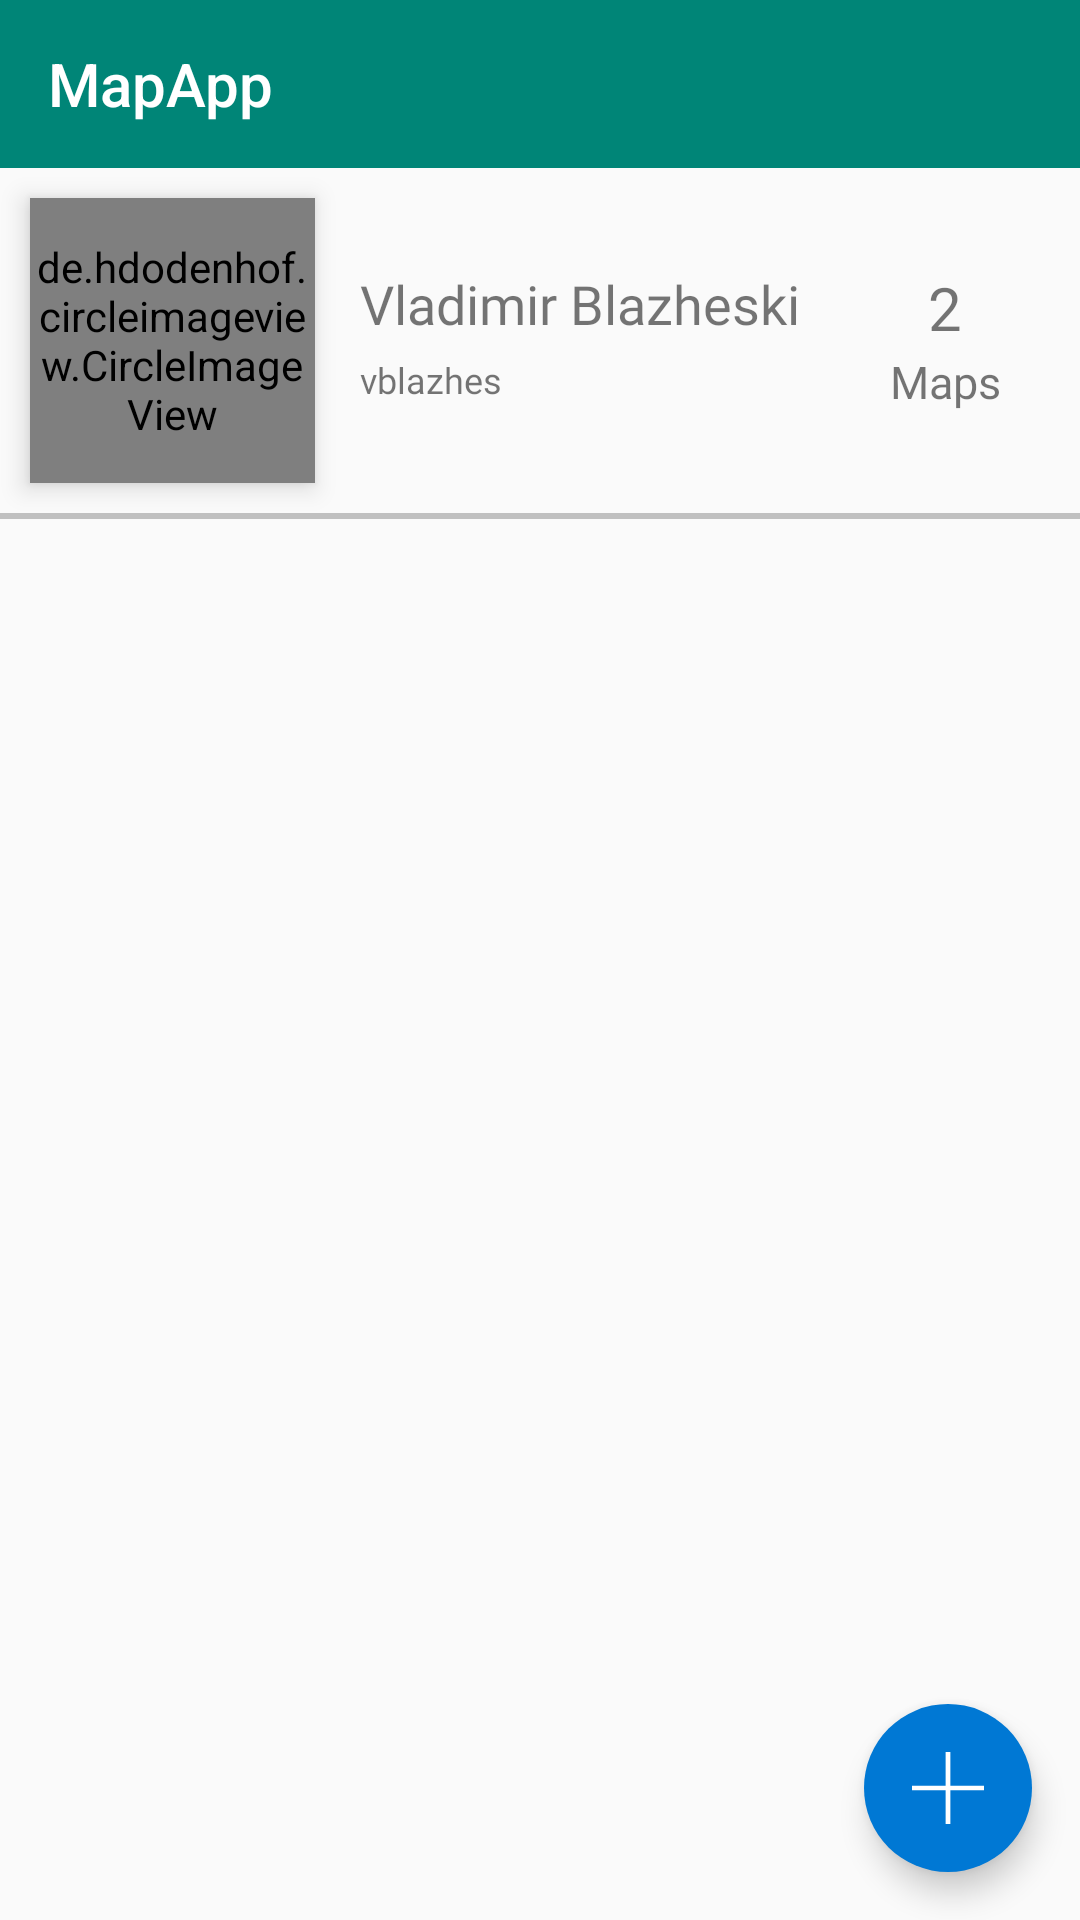

Named icons in this screenshot (1080px×1920px) and their centers, (x=x, y=y):
Add map: (x=948, y=1788)
